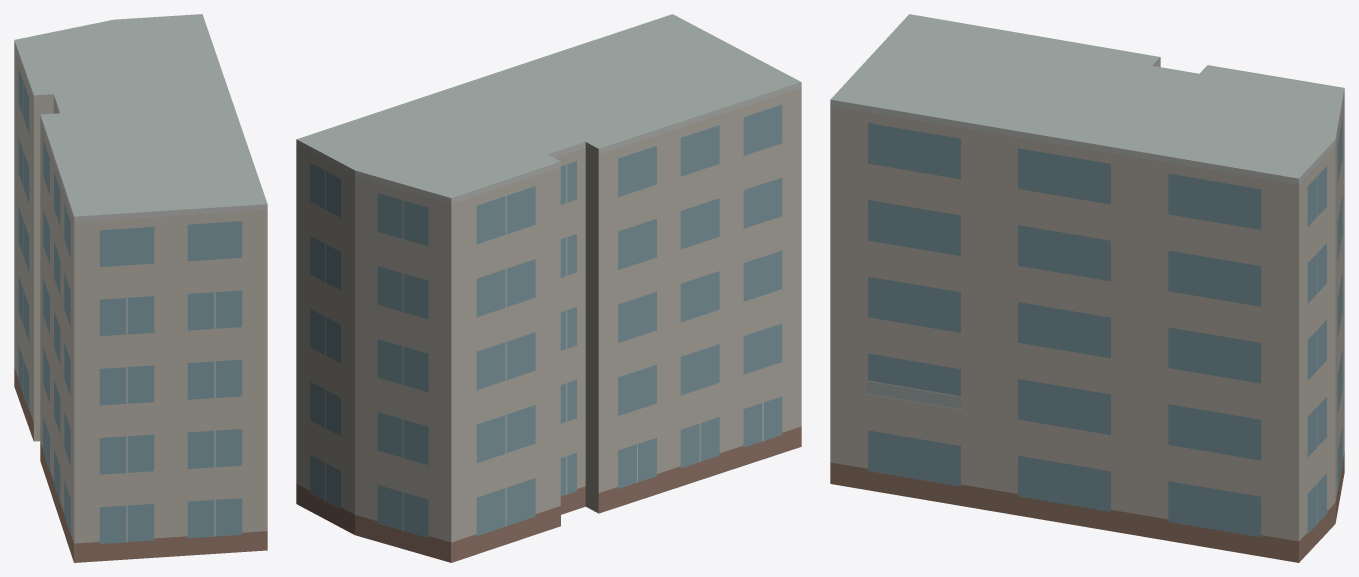
The model's file is survey-upis-32636556.glb.
3 renders of one model, left to right at view 1: azimuth 30°, elevation 25°; view 2: azimuth 150°, elevation 25°; view 3: azimuth 270°, elevation 25°, orthographic. The views are drawn at different scales.
Parts seen in each view (by area): view 1: survey-upis-32636556.tmp; view 2: survey-upis-32636556.tmp; view 3: survey-upis-32636556.tmp.
Part boxes in pixels (x1,y1,x2,y2): survey-upis-32636556.tmp: (14, 14, 267, 562); survey-upis-32636556.tmp: (296, 14, 801, 562); survey-upis-32636556.tmp: (830, 14, 1344, 562).
Size of the model in its own units: 14.02 by 15.25 by 18.5.
